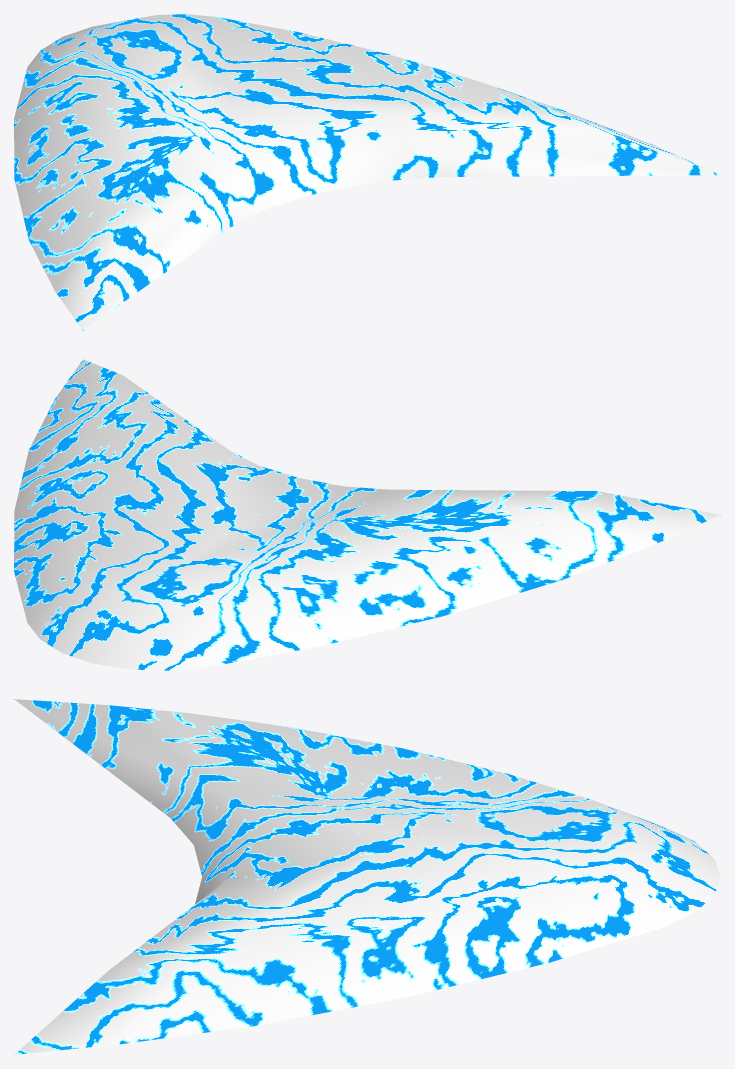
The model's file is SupremeTwo.fbx.
3 views of the same model, one above another, from view 1: azimuth 30°, elevation 25°; view 2: azimuth 150°, elevation 25°; view 3: azimuth 270°, elevation 25° (orthographic). The views are drawn at different scales.
Parts seen in each view (by area): view 1: supreme_2; view 2: supreme_2; view 3: supreme_2.
Part boxes in pixels (x1,y1,x2,y2): supreme_2: (14, 14, 719, 330); supreme_2: (14, 359, 720, 670); supreme_2: (14, 699, 720, 1054).
Size of the model in its own units: 351 by 294 by 18.06.
